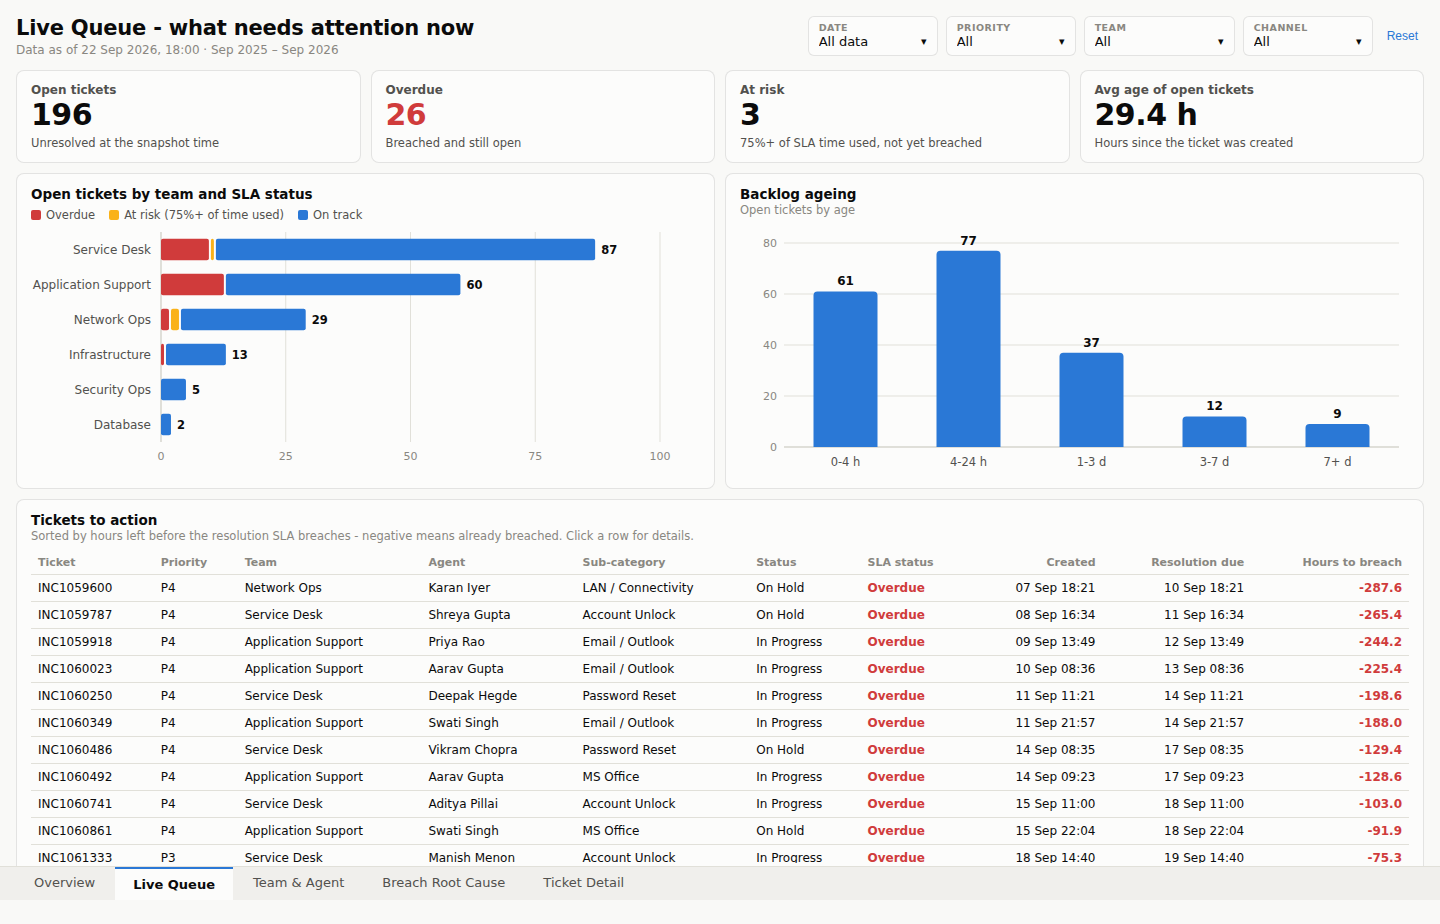

Layout of this report page (visuals, bound fields, positions):
{"tool":"powerbi","page":{"name":"Live Queue","canvas":[1280,764],"ordinal":1},"visuals":[{"type":"pageNavigator","box":[16,8,1248,34],"z":1000},{"type":"textbox","box":[12,44,640,46],"z":2000},{"type":"cardVisual","fields":{"Data":["_Measures.As Of Label"]},"box":[12,82,560,30],"z":3000},{"type":"slicer","fields":{"Values":["DimPriority.Priority"]},"box":[894,46,170,66],"z":4000},{"type":"slicer","fields":{"Values":["DimTeam.Team"]},"box":[1074,46,190,66],"z":5000},{"type":"cardVisual","fields":{"Data":["_Measures.Open Tickets"]},"box":[16,116,306,74],"z":6000},{"type":"cardVisual","fields":{"Data":["_Measures.Overdue Open Tickets"]},"box":[332,116,306,74],"z":7000},{"type":"cardVisual","fields":{"Data":["_Measures.At-Risk Tickets"]},"box":[648,116,306,74],"z":8000},{"type":"cardVisual","fields":{"Data":["_Measures.Avg Open Age (hrs)"]},"box":[964,116,306,74],"z":9000},{"type":"barChart","title":"Open tickets by team and SLA status","fields":{"Category":["DimTeam.Team"],"Series":["FactTickets.SLAStatus"],"Y":["_Measures.Open Tickets"]},"box":[16,202,620,270],"z":10000},{"type":"clusteredColumnChart","title":"Backlog ageing (open tickets by age)","fields":{"Category":["FactTickets.Backlog Age Bucket"],"Y":["_Measures.Open Tickets"]},"box":[646,202,618,270],"z":11000},{"type":"tableEx","title":"Tickets to action","fields":{"Values":["FactTickets.TicketID","DimPriority.PriorityShort","DimTeam.Team","DimAgent.AgentName","DimCategory.SubCategory","FactTickets.Status","FactTickets.SLAStatus","FactTickets.CreatedDateTime","FactTickets.ResolutionDueDateTime","FactTickets.Hours To Breach"]},"box":[16,482,1248,274],"z":12000}]}

Visuals, with their boxes on the page's 1280x764 design canvas (x1, y1, x2, y2). These are canvas units, not pixel positions in the 1440x924 screenshot, which may show the page scaled, cropped or inside an application window:
pageNavigator: bbox(16, 8, 1264, 42)
textbox: bbox(12, 44, 652, 90)
cardVisual - _Measures.As Of Label: bbox(12, 82, 572, 112)
slicer - DimPriority.Priority: bbox(894, 46, 1064, 112)
slicer - DimTeam.Team: bbox(1074, 46, 1264, 112)
cardVisual - _Measures.Open Tickets: bbox(16, 116, 322, 190)
cardVisual - _Measures.Overdue Open Tickets: bbox(332, 116, 638, 190)
cardVisual - _Measures.At-Risk Tickets: bbox(648, 116, 954, 190)
cardVisual - _Measures.Avg Open Age (hrs): bbox(964, 116, 1270, 190)
"Open tickets by team and SLA status" barChart: bbox(16, 202, 636, 472)
"Backlog ageing (open tickets by age)" clusteredColumnChart: bbox(646, 202, 1264, 472)
"Tickets to action" tableEx: bbox(16, 482, 1264, 756)
